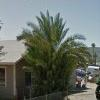Tree: (17, 9, 71, 81)
